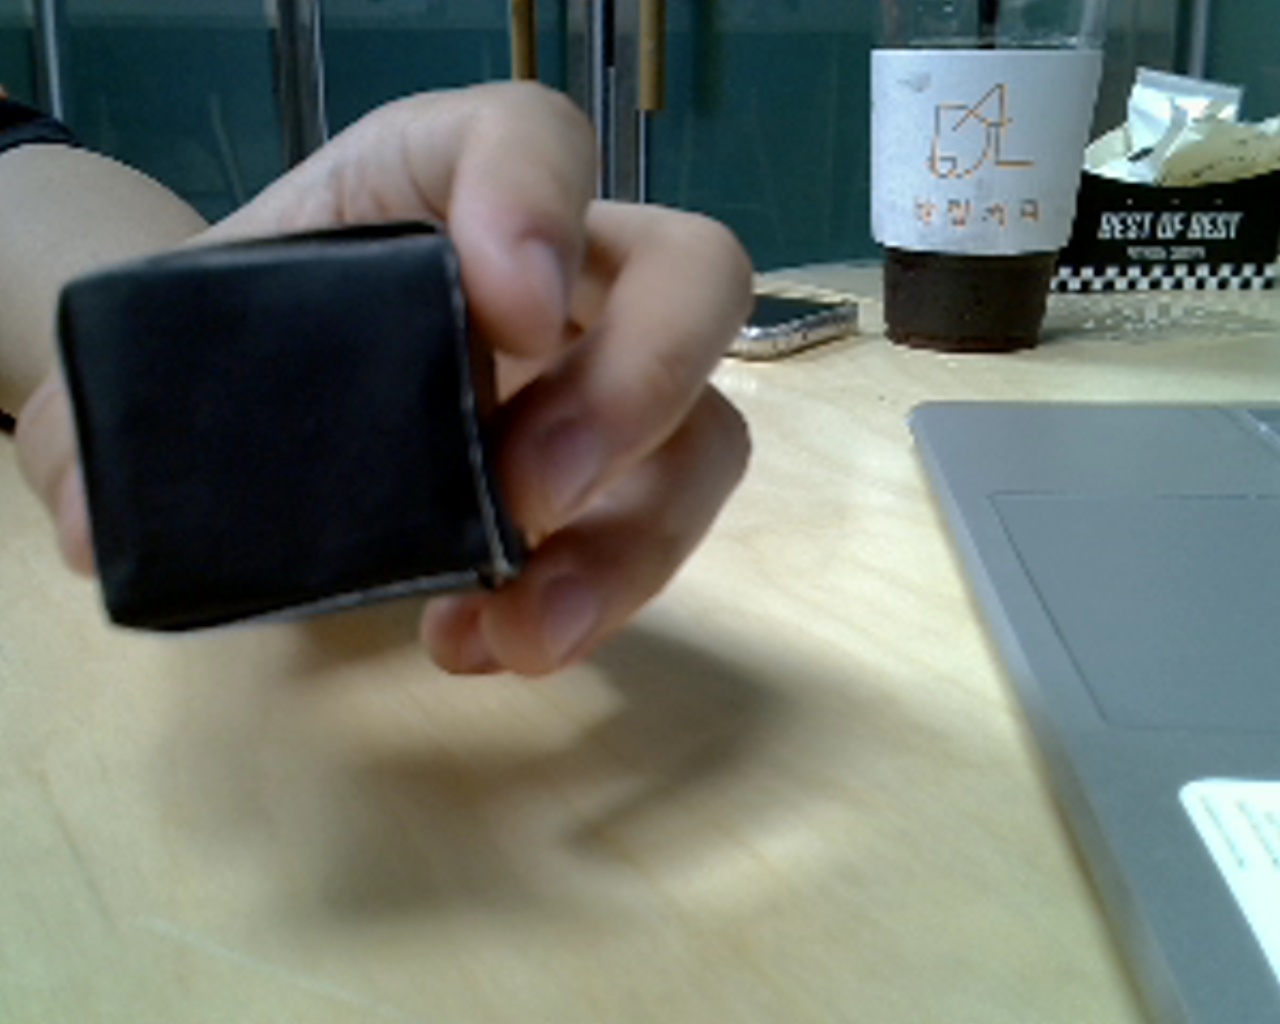blackbox: (33, 185, 601, 664)
